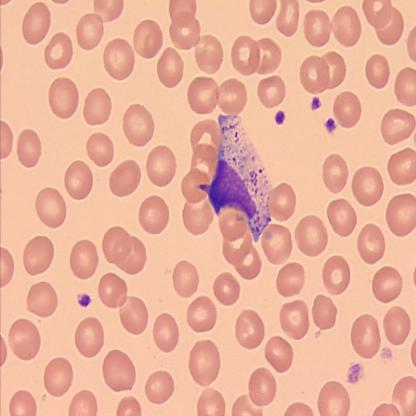Myelocyte: (201, 115, 275, 242)
